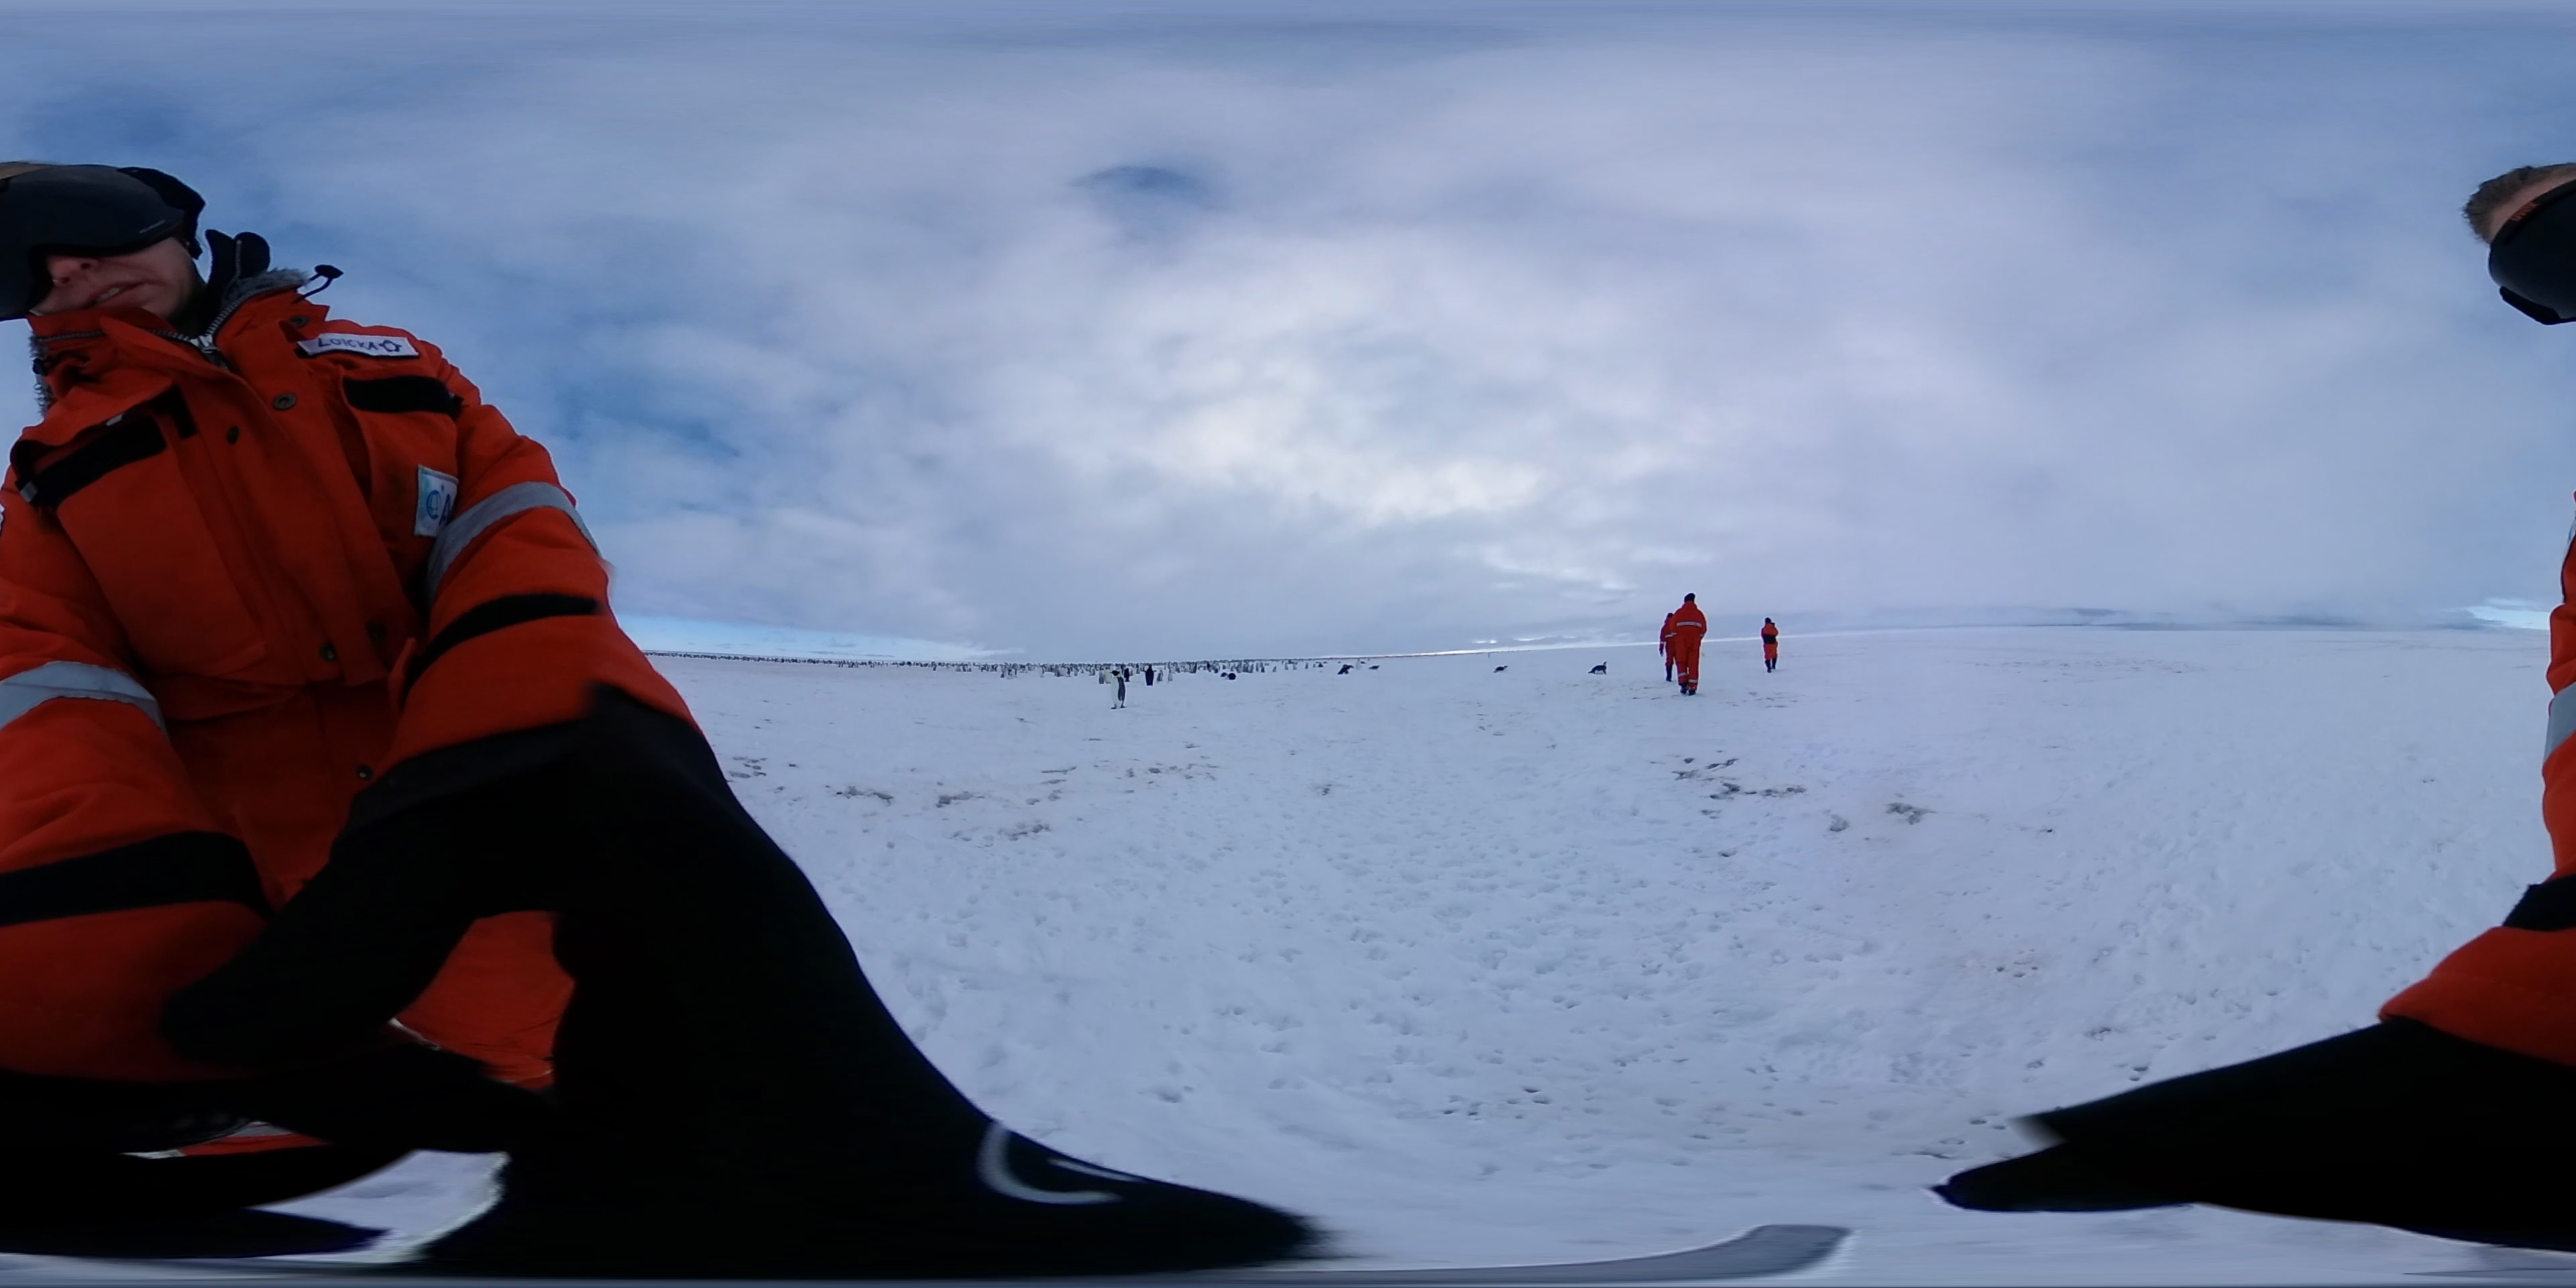adult_standing_penguin: (1107, 669, 1130, 711)
adult_toboggan_penguin: (1587, 660, 1608, 677), (1492, 662, 1511, 674)
researcher: (0, 143, 723, 1275), (1671, 590, 1705, 698), (1658, 609, 1686, 683), (1759, 618, 1782, 674)
